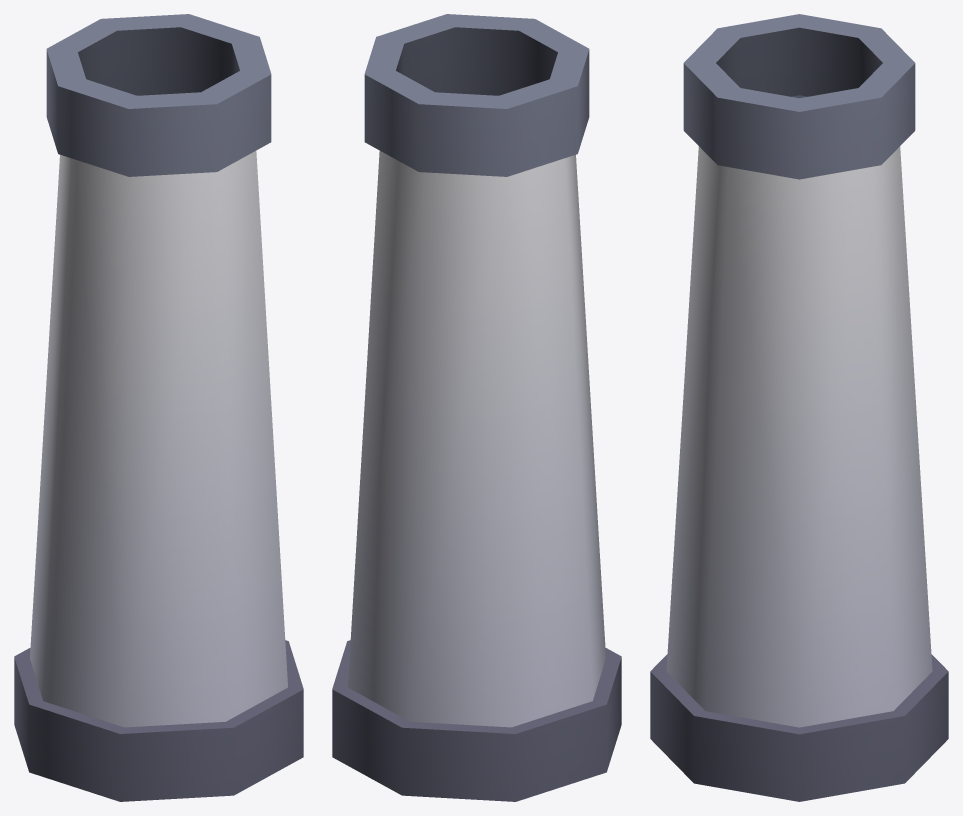
Rendered from chimney-small.glb.
The picture shows the model from 3 angles, left to right: view 1: azimuth 30°, elevation 25°; view 2: azimuth 150°, elevation 25°; view 3: azimuth 270°, elevation 25°; orthographic projection.
Parts seen in each view (by area): view 1: chimney-small; view 2: chimney-small; view 3: chimney-small.
Part boxes in pixels (bbox=[...]): chimney-small: bbox=[14, 14, 303, 801]; chimney-small: bbox=[332, 14, 621, 801]; chimney-small: bbox=[650, 14, 948, 801].
Bounding box in the file's own units: 0.3 × 0.75 × 0.3.
1 material, 1 textured.
